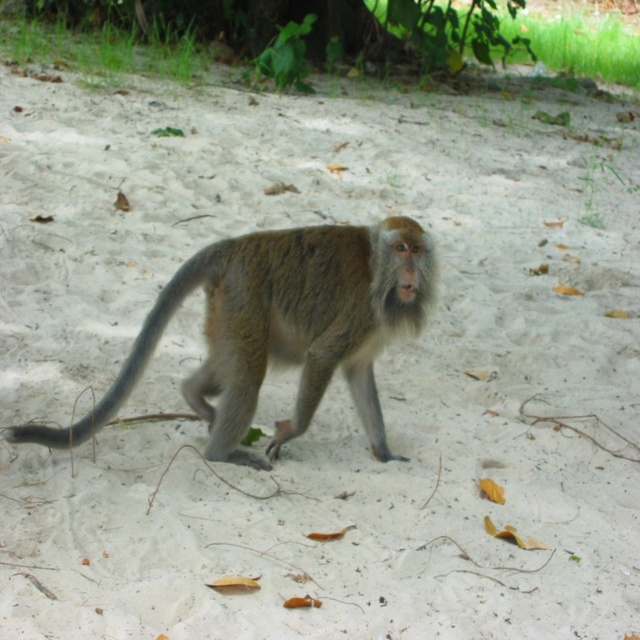Monkey: (0, 216, 436, 470)
